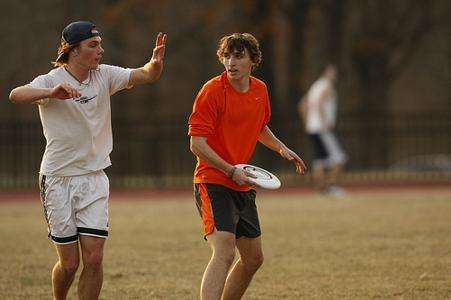person: (189, 32, 309, 300)
